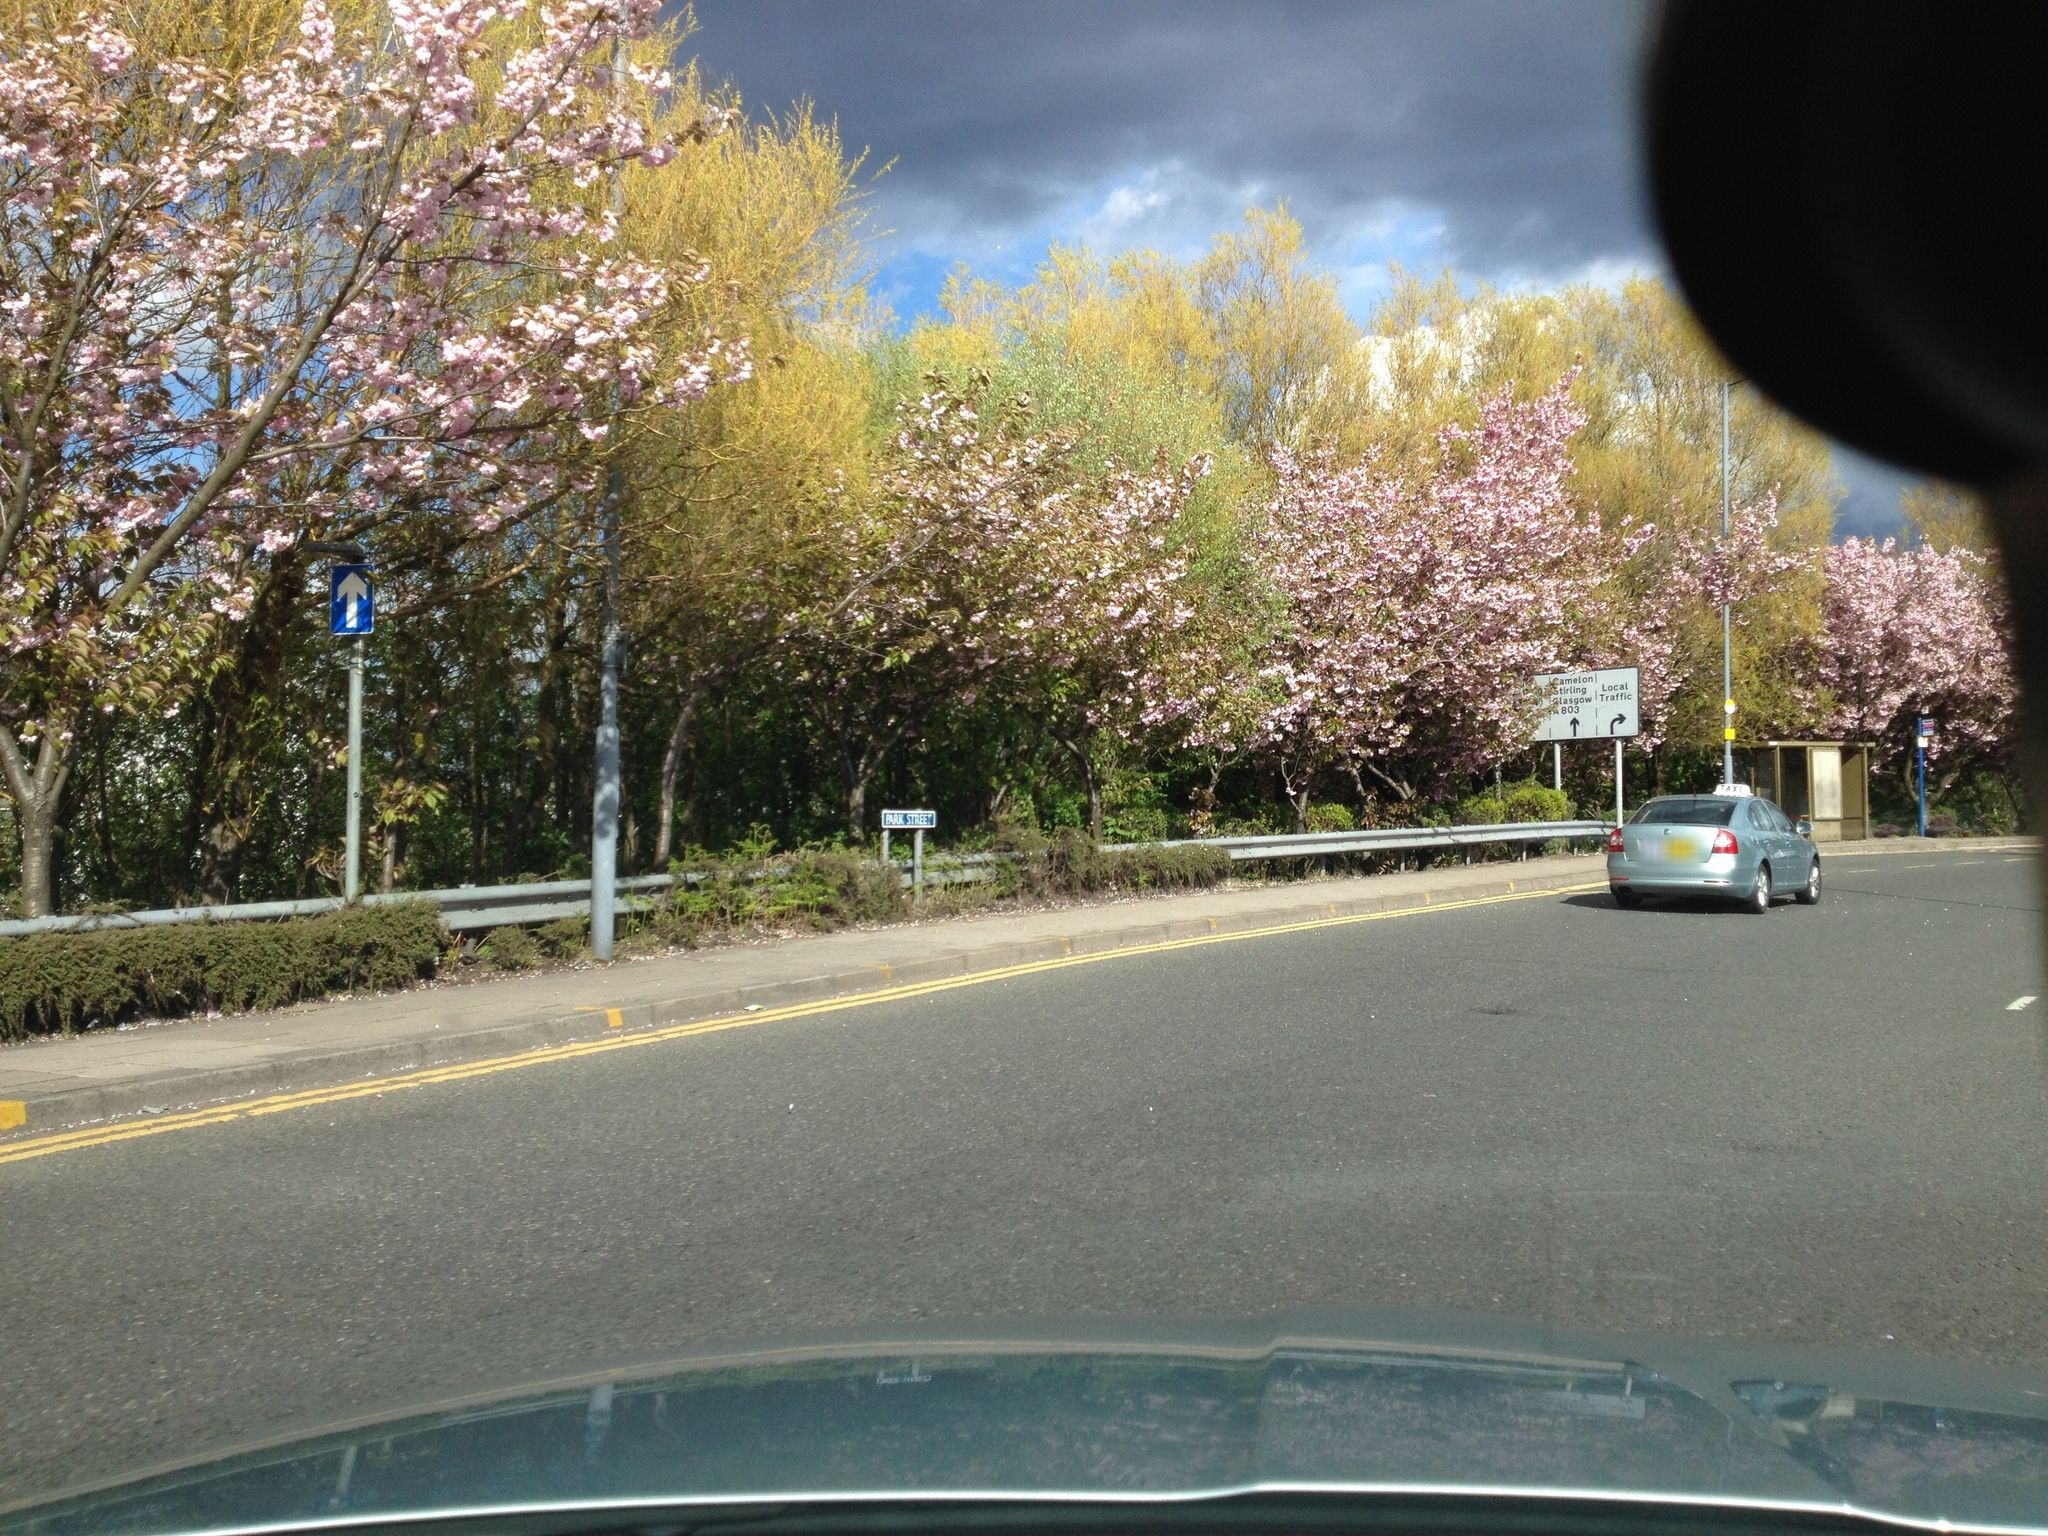car: (1608, 783, 1822, 912)
